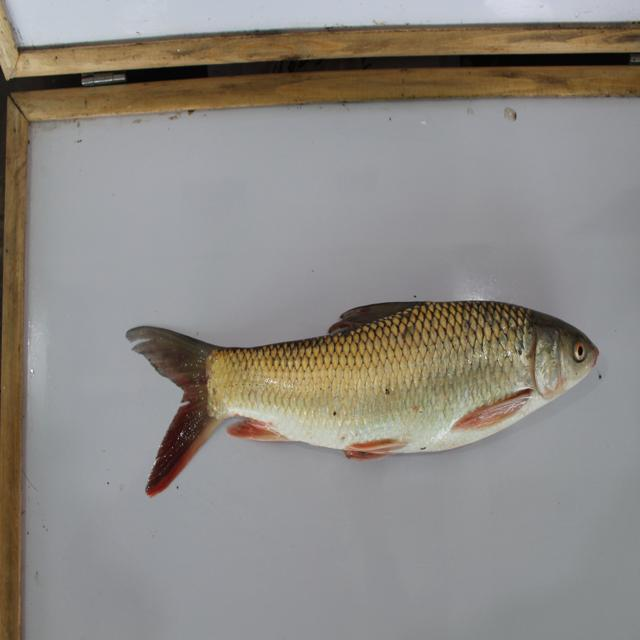Mori: (90, 263, 606, 514)
